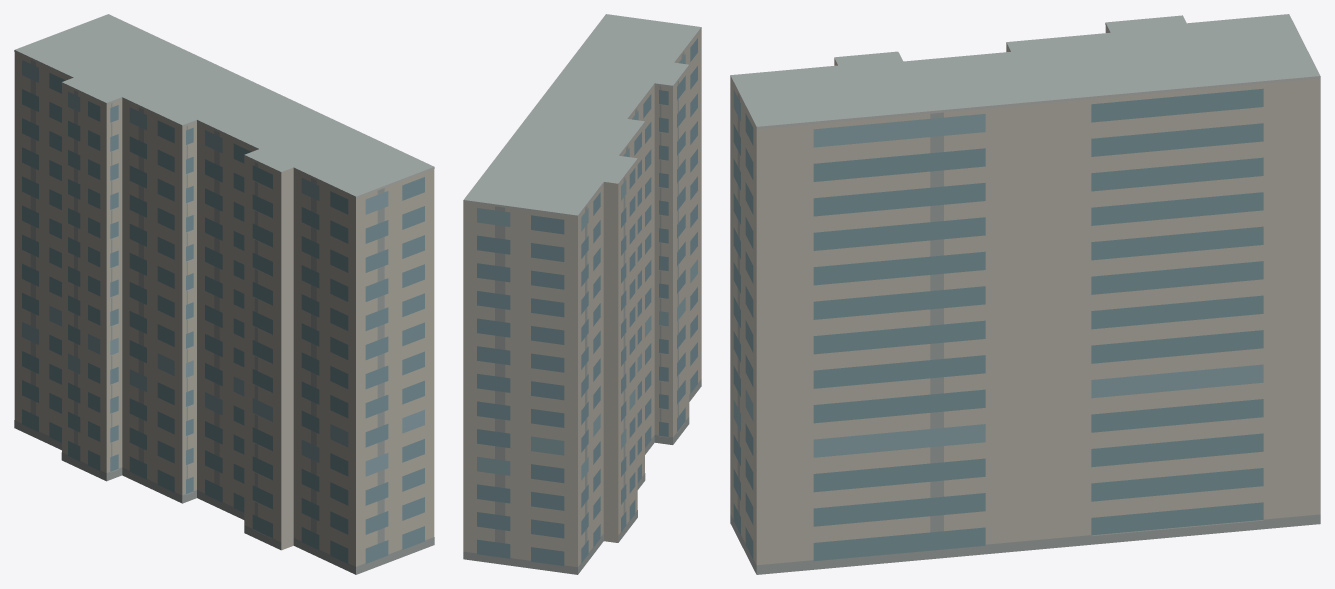
The model's file is residential-e359f29b-5eee-4396-9b17-e3d0fa302900.glb.
3 views of the same model, side by side, from view 1: azimuth 30°, elevation 25°; view 2: azimuth 150°, elevation 25°; view 3: azimuth 270°, elevation 25° (orthographic). The views are drawn at different scales.
Visible parts, largest first — view 1: residential-e359f29b-5eee-4396-9b17-e3d0fa302900.tmp; view 2: residential-e359f29b-5eee-4396-9b17-e3d0fa302900.tmp; view 3: residential-e359f29b-5eee-4396-9b17-e3d0fa302900.tmp.
Part boxes in pixels (left/top/right/bottom): residential-e359f29b-5eee-4396-9b17-e3d0fa302900.tmp: left=14, top=14, right=434, bottom=574; residential-e359f29b-5eee-4396-9b17-e3d0fa302900.tmp: left=463, top=14, right=701, bottom=574; residential-e359f29b-5eee-4396-9b17-e3d0fa302900.tmp: left=730, top=14, right=1320, bottom=574.
Size of the model in its own units: 22.69 by 42 by 50.14.
